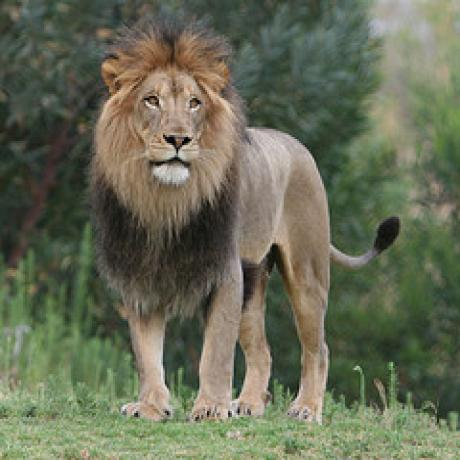Lion: (80, 25, 400, 429)
